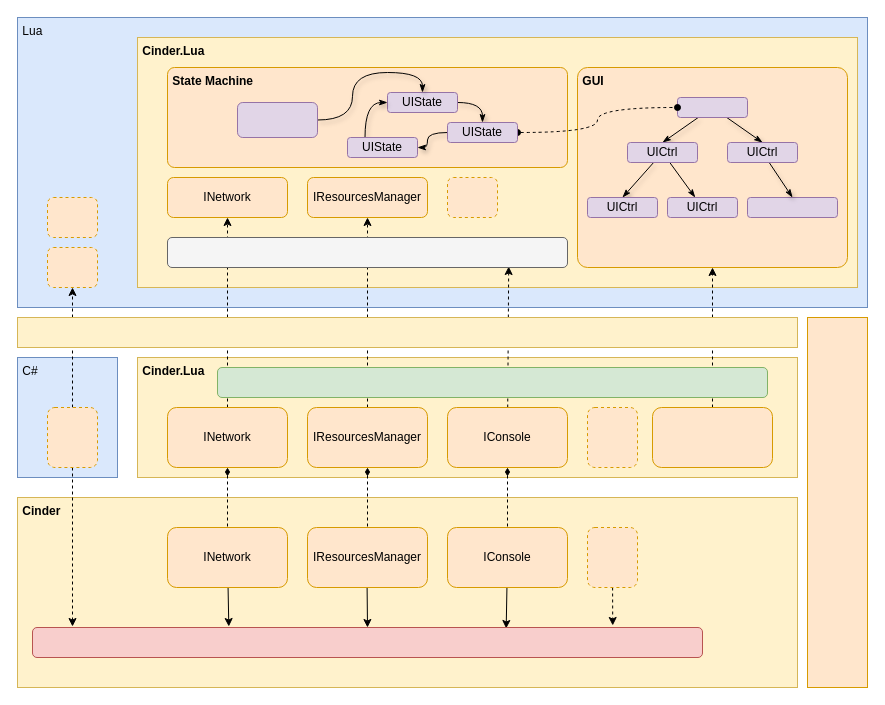
Some shapes in this 885 by 705 pixel diagram are drawn without their labels. Each missing label, with the centre of its shape:
Cinder.ToLua: (407,332)
Service Locator (Export to Lua global table): (492,382)
Service Locator (Maintain Lua service lifecycle): (367,252)
Service Locator (Maintain service lifecycle): (367,642)
Tool: (837,502)
UI System: (712,437)
UIApp: (712,107)
UIComponent: (792,207)
UIStateDriver: (277,120)
